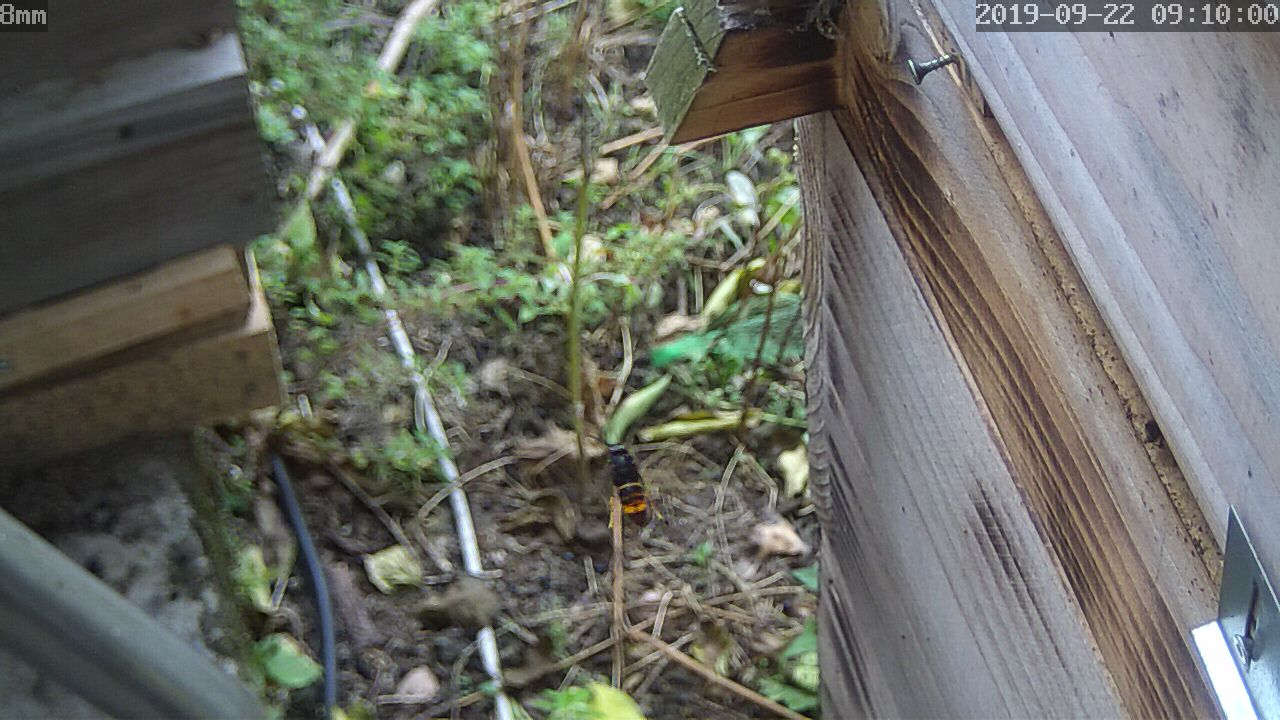hornet: (590, 433, 663, 530)
